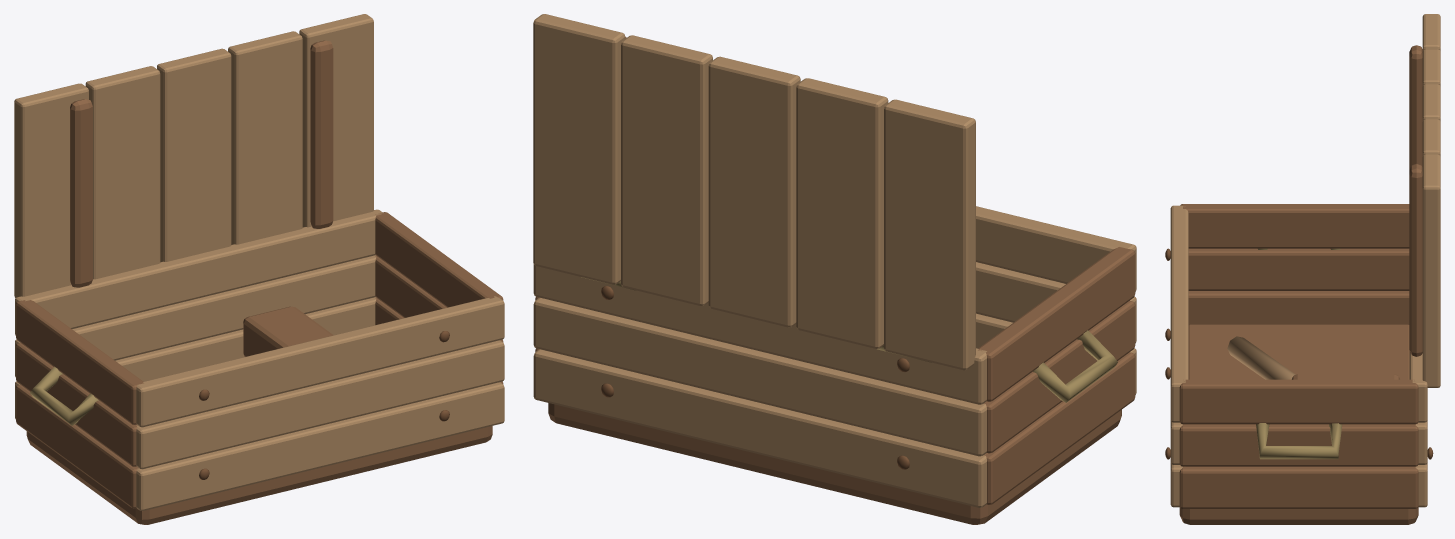
File: joiner-chest.glb
3 views of the same model, side by side, from view 1: azimuth 30°, elevation 25°; view 2: azimuth 150°, elevation 25°; view 3: azimuth 270°, elevation 25° (orthographic). The views are drawn at different scales.
Parts seen in each view (by area): view 1: joiner-chest__woodlight, joiner-chest__wood, joiner-chest__bronze; view 2: joiner-chest__woodlight, joiner-chest__wood, joiner-chest__bronze; view 3: joiner-chest__wood, joiner-chest__woodlight, joiner-chest__bronze.
Boxes of the visible parts, x1,y1,x2,y2 form: joiner-chest__woodlight: [14, 14, 504, 510]; joiner-chest__wood: [16, 40, 503, 524]; joiner-chest__bronze: [30, 366, 98, 425]; joiner-chest__woodlight: [533, 14, 1136, 507]; joiner-chest__wood: [535, 37, 1135, 524]; joiner-chest__bronze: [581, 277, 1117, 402]; joiner-chest__wood: [1179, 45, 1422, 524]; joiner-chest__woodlight: [1170, 14, 1440, 507]; joiner-chest__bronze: [1256, 248, 1342, 459].
Size of the model in its own units: 0.9457 by 0.725 by 0.5305.
